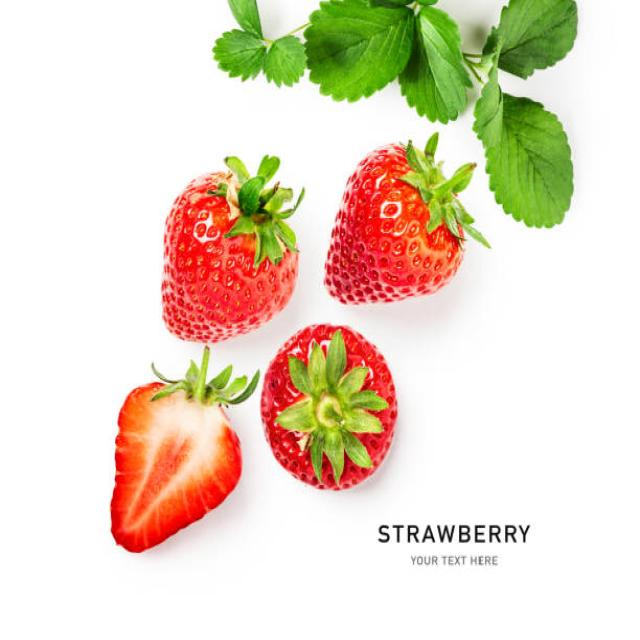Healthy Fruit: (260, 322, 400, 494), (160, 172, 296, 344), (323, 143, 463, 305)
